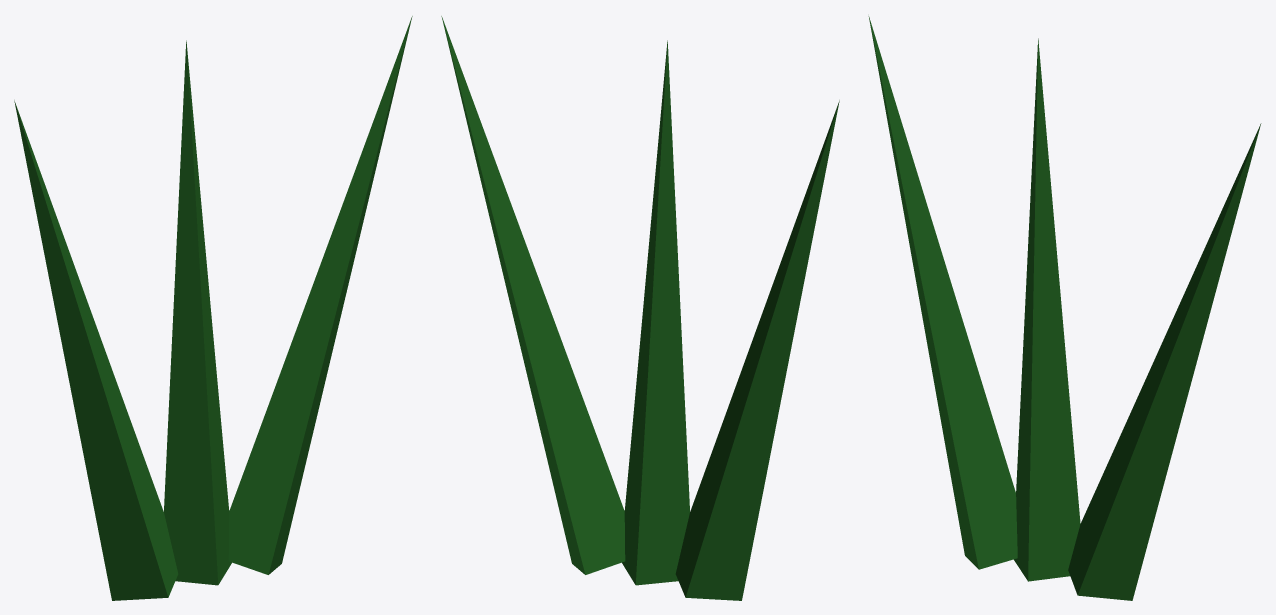
File: grass.fbx
The picture shows the model from 3 angles, left to right: view 1: azimuth 30°, elevation 25°; view 2: azimuth 150°, elevation 25°; view 3: azimuth 330°, elevation 25°; orthographic projection.
Parts seen in each view (by area): view 1: Grass; view 2: Grass; view 3: Grass.
Part boxes in pixels (left/top/right/bottom): Grass: left=14, top=16, right=412, bottom=600; Grass: left=441, top=16, right=839, bottom=600; Grass: left=868, top=16, right=1261, bottom=600.
Bounding box in the file's own units: 14.55 × 19.12 × 2.67.
